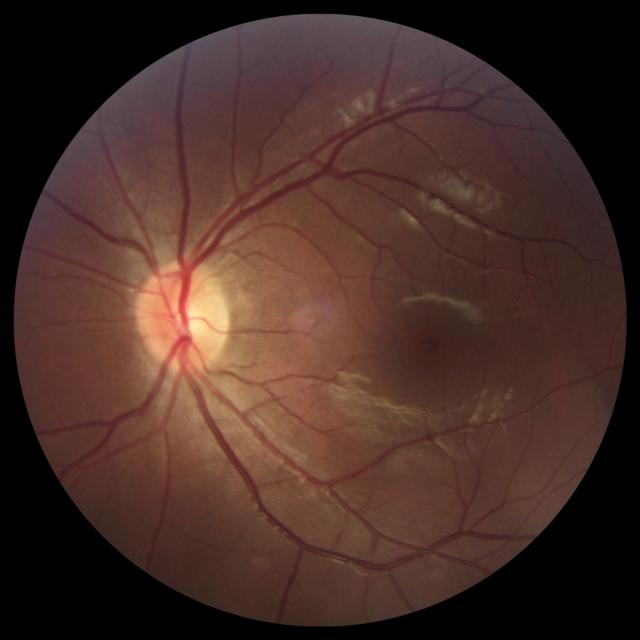OC: (169, 303, 207, 340)
OD: (135, 257, 229, 371)
